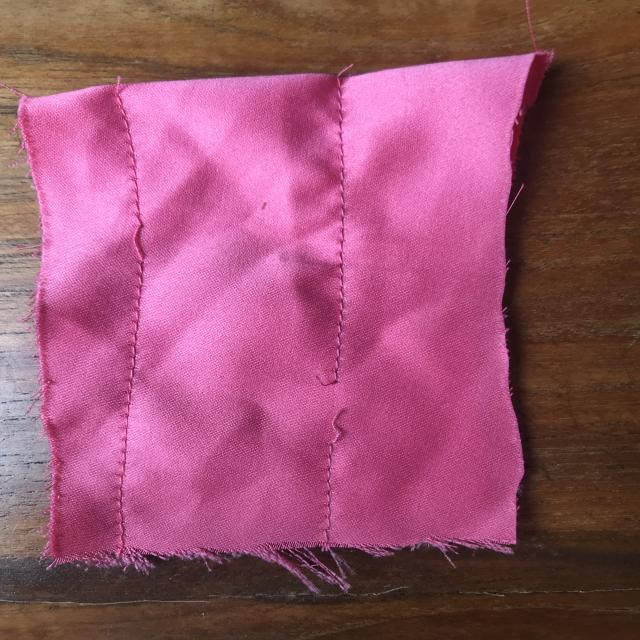broken: (305, 362, 365, 460)
good: (324, 238, 363, 318)
skip: (116, 207, 176, 274)
